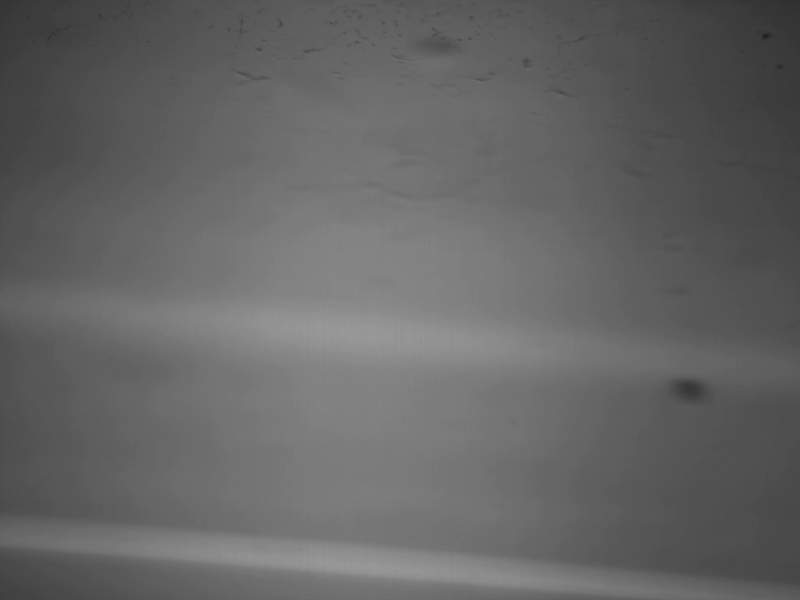bead: (659, 373, 715, 412)
fiber: (277, 177, 485, 209)
